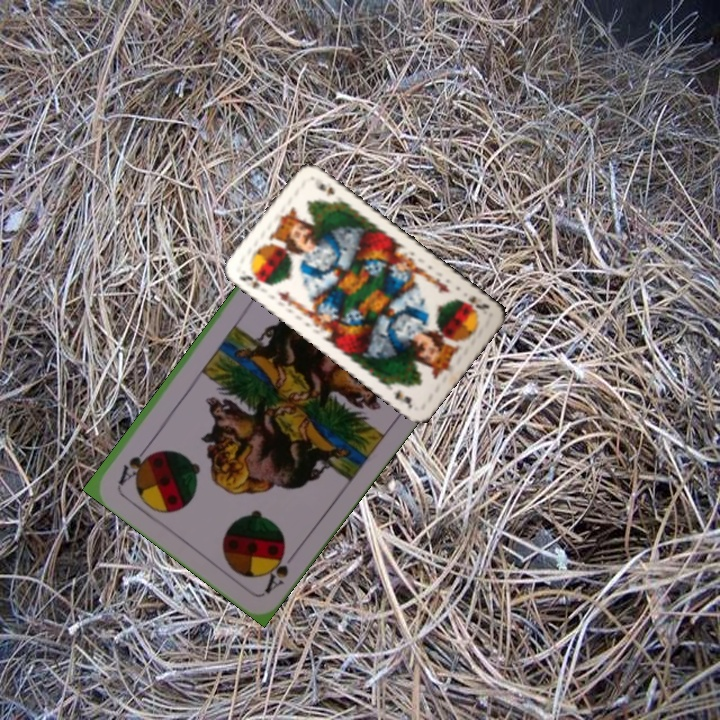SA: (259, 542, 302, 597)
SK: (235, 268, 272, 291), (457, 291, 492, 315)
